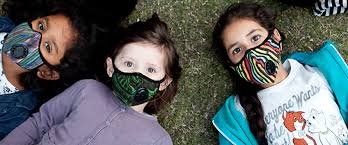mask: (98, 16, 187, 111), (3, 7, 83, 85), (208, 11, 288, 85)
